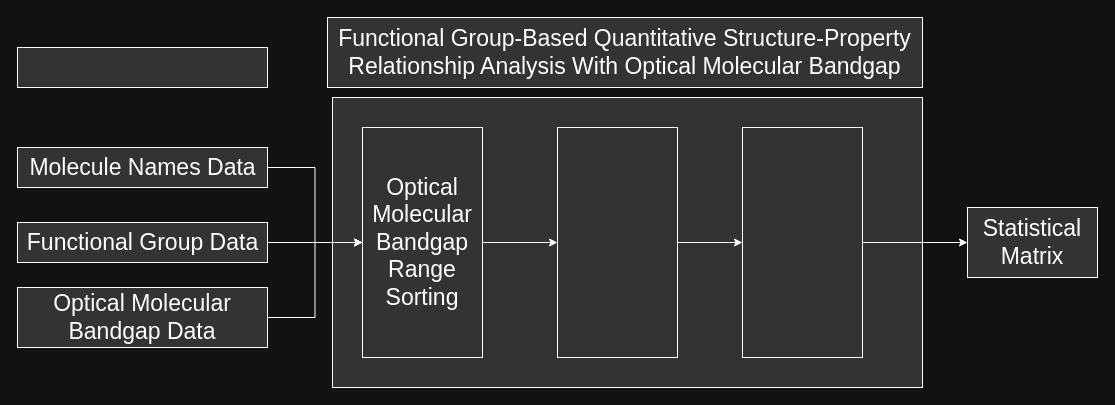
Image size: 1115x405. Some labels were removed from this diagram. Here are the shapes that lost their labels. From the top down, the box of each, then its label:
(16, 46, 268, 88): Molecular Data Inputs
(556, 126, 678, 358): Functional Group Set Sorting
(742, 126, 862, 358): Functional Group-Bandgap Molecules Category Counting
